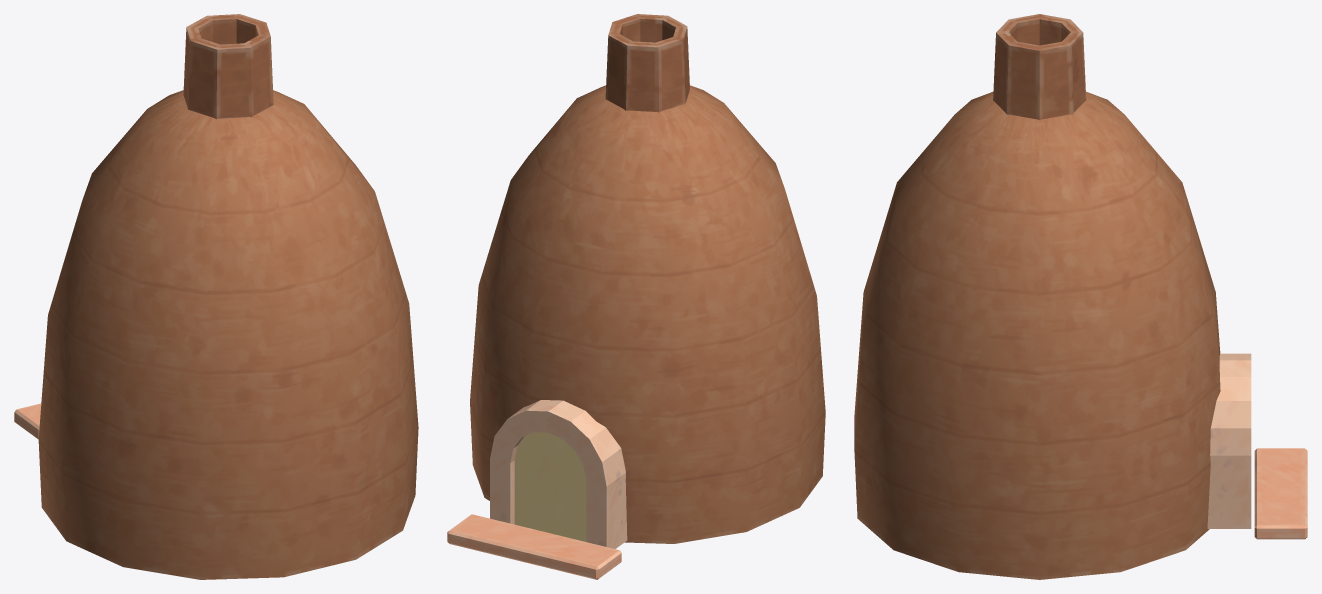
The model's file is kiln.fbx.
3 renders of one model, left to right at view 1: azimuth 30°, elevation 25°; view 2: azimuth 150°, elevation 25°; view 3: azimuth 270°, elevation 25°, orthographic. The views are drawn at different scales.
Parts seen in each view (by area): view 1: kiln; view 2: kiln; view 3: kiln.
Part boxes in pixels (x1,y1,x2,y2): kiln: [14, 14, 418, 579]; kiln: [447, 14, 825, 579]; kiln: [854, 14, 1307, 579].
Bounding box in the file's own units: 6.1 × 8.3 × 7.27.
Materials: 1 (1 with a texture image).
